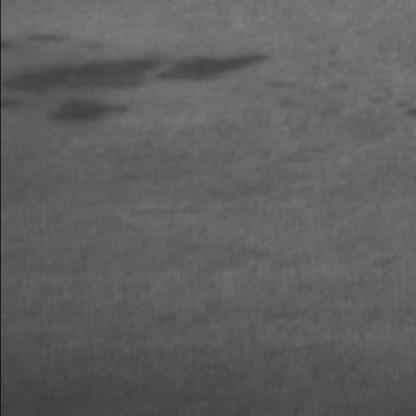inclusion: (0, 29, 200, 106), (143, 40, 275, 88), (46, 92, 135, 127)
